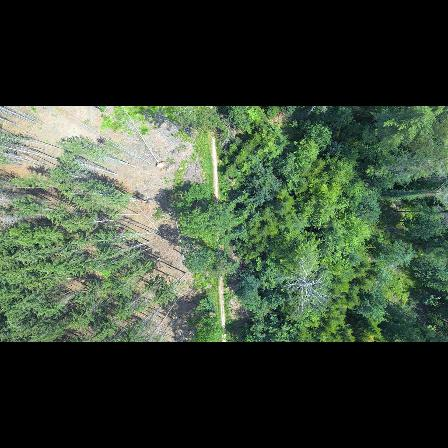Dead: (284, 255, 336, 317)
